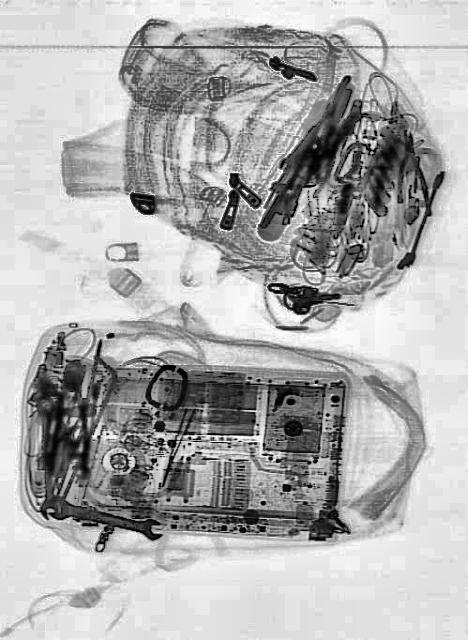Wrench: (47, 492, 163, 542), (32, 394, 60, 520)
